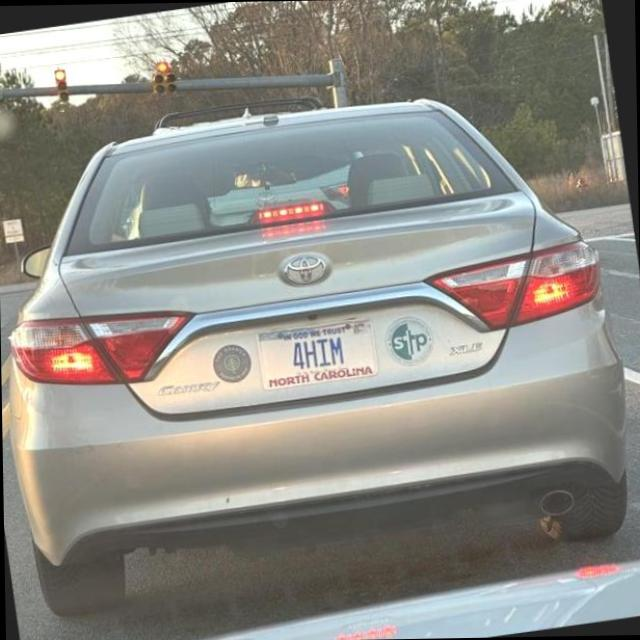LicensePlate: (252, 313, 377, 390)
